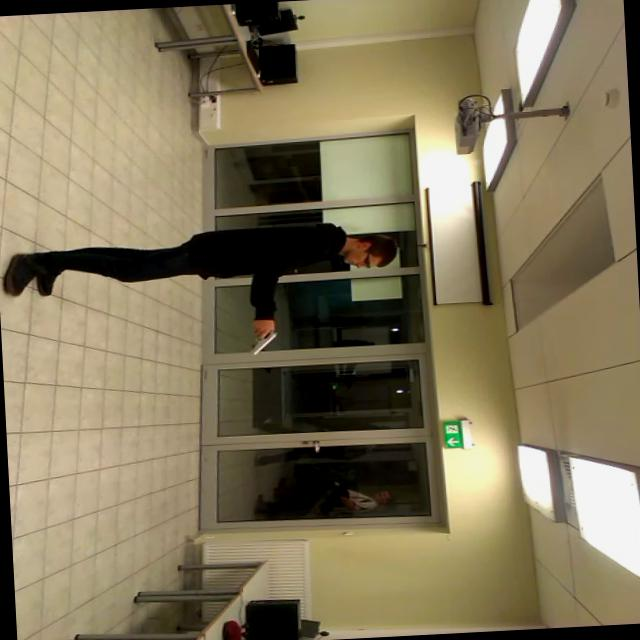handgun: (228, 315, 292, 367)
